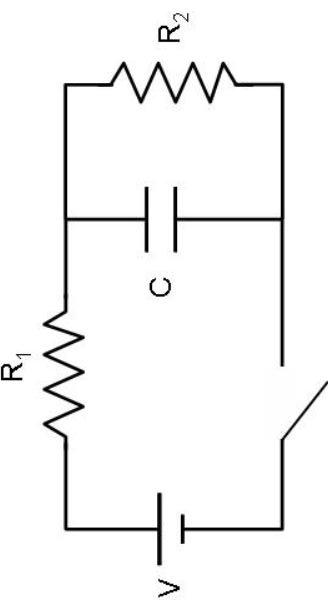Capacitor: (117, 171, 202, 255)
